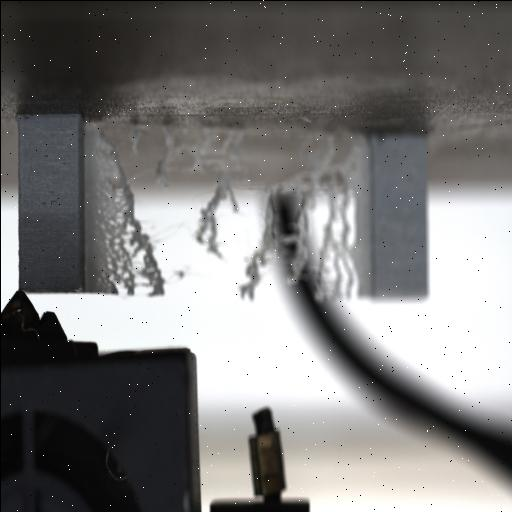stringing: (90, 124, 166, 296), (240, 186, 312, 304), (310, 173, 358, 304)
